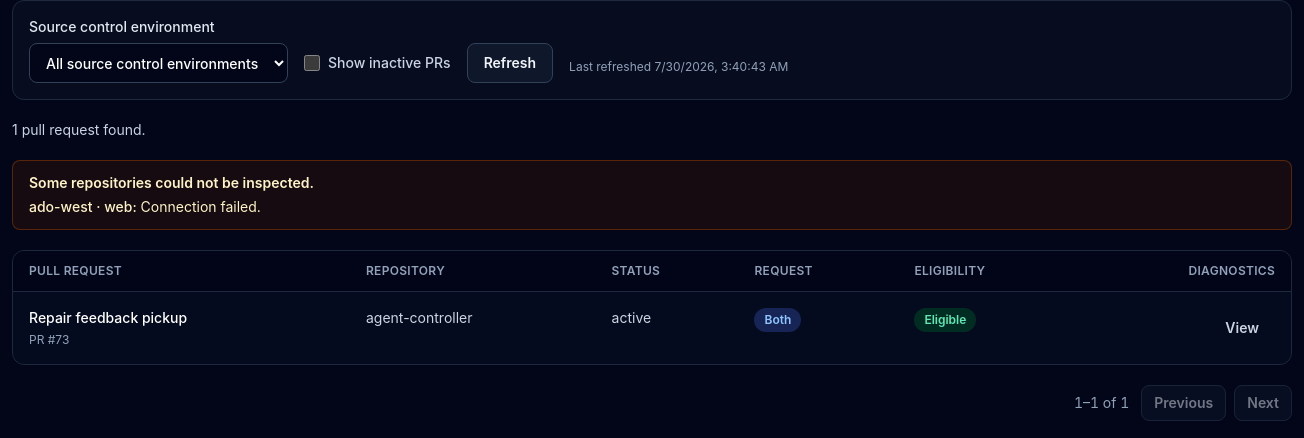
it: PullRequestsDebugTab › renders filters, rows, request state, repository failures, and an empty state
Expected: the dropdown labelled "Source control environment" shows "All source control environments", [29,43,288,83]
Expected: the checkbox labelled "Show inactive PRs" is not checked, [304,55,320,71]
Click the button "Refresh" at (510, 63), box [467,43,553,83]
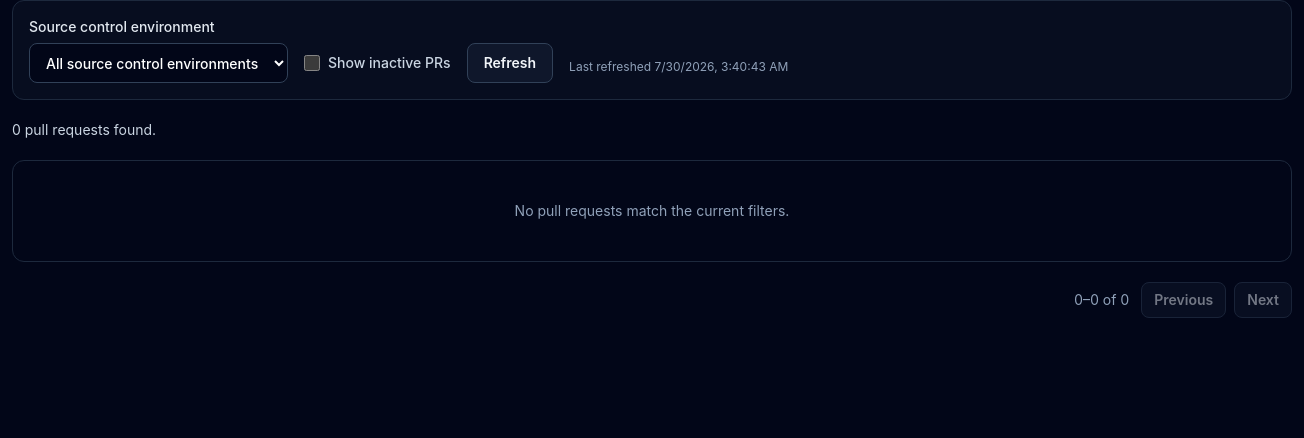
Expected: the text "No pull requests match the current filters." is shown, [12,160,1292,262]
